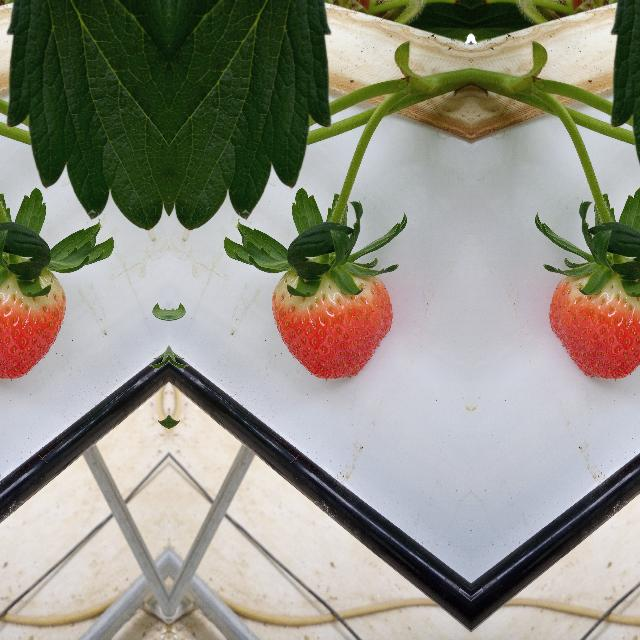Health_100: (271, 267, 394, 381), (547, 267, 640, 381), (0, 267, 65, 381)
